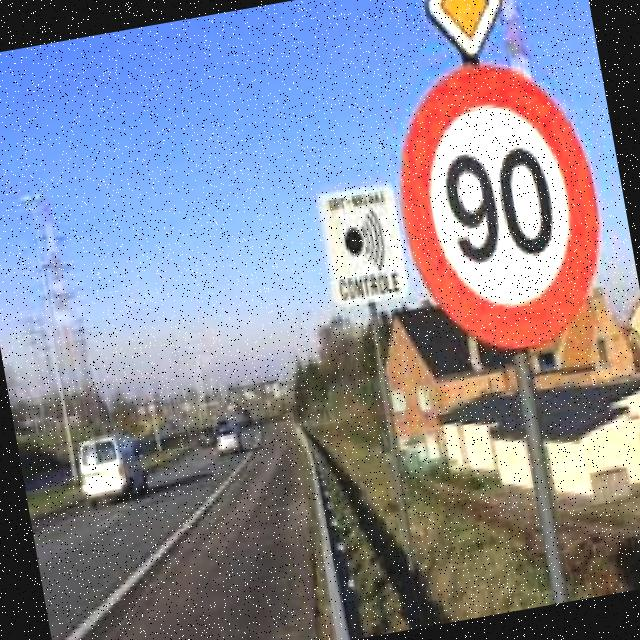Ograniczenie predkosci do 90: (380, 46, 620, 364)
